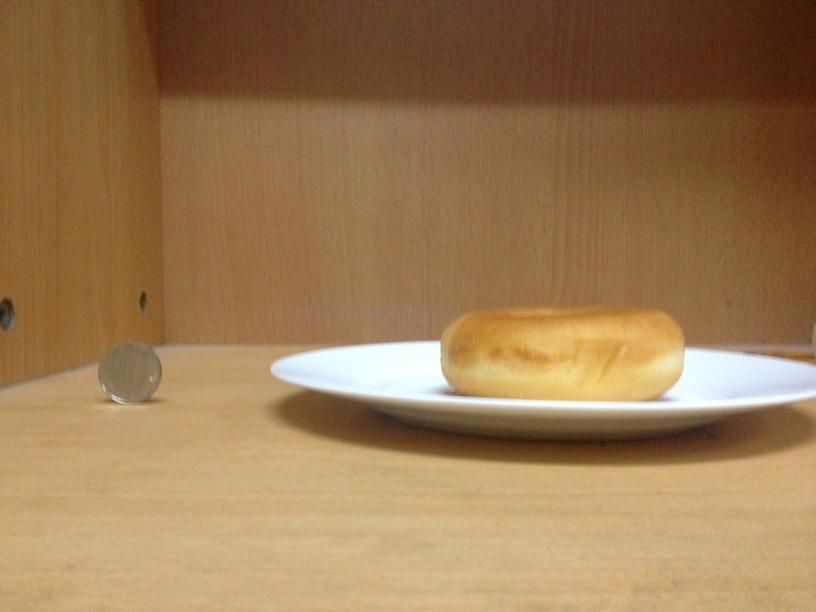coin: (96, 339, 163, 404)
doughnut: (436, 301, 685, 401)
